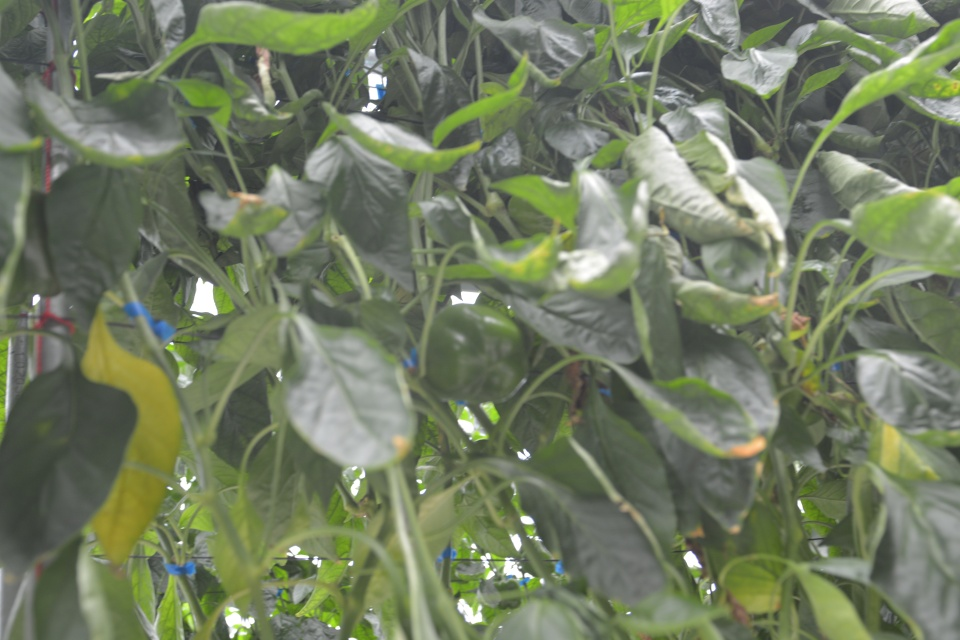fruit: (424, 300, 529, 405)
